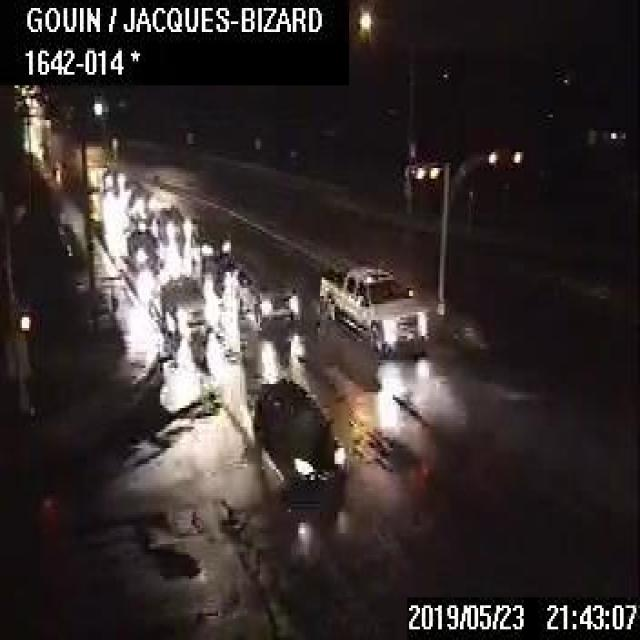vehicle: (252, 378, 348, 493), (316, 263, 427, 358), (236, 258, 302, 322), (185, 216, 232, 269), (158, 274, 204, 322), (126, 227, 161, 271), (153, 202, 187, 245), (124, 188, 152, 225), (100, 165, 124, 192)
